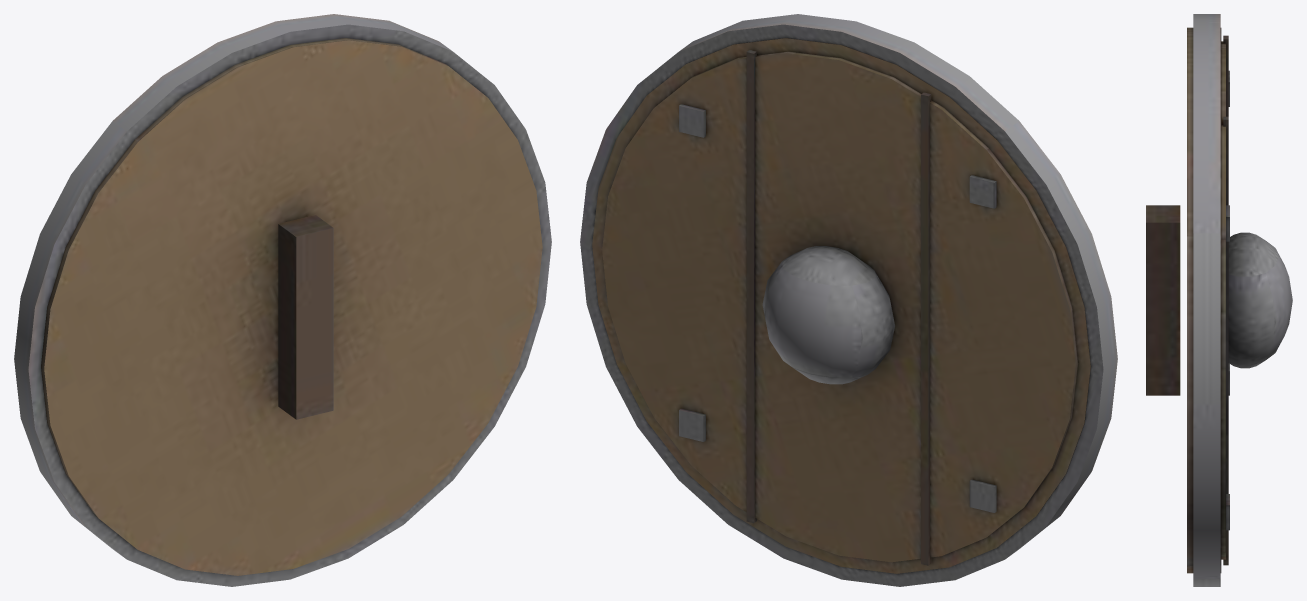
Rendered from shield_round.glb.
3 renders of one model, left to right at view 1: azimuth 30°, elevation 25°; view 2: azimuth 150°, elevation 25°; view 3: azimuth 270°, elevation 25°, orthographic. The views are drawn at different scales.
Parts seen in each view (by area): view 1: boss; view 2: boss; view 3: boss.
Boxes of the visible parts, x1,y1,x2,y2 form: boss: [14, 14, 551, 586]; boss: [580, 14, 1117, 586]; boss: [1146, 14, 1292, 586].
Bounding box in the file's own units: 0.42 × 0.42 × 0.1075.
1 material, 1 textured.
